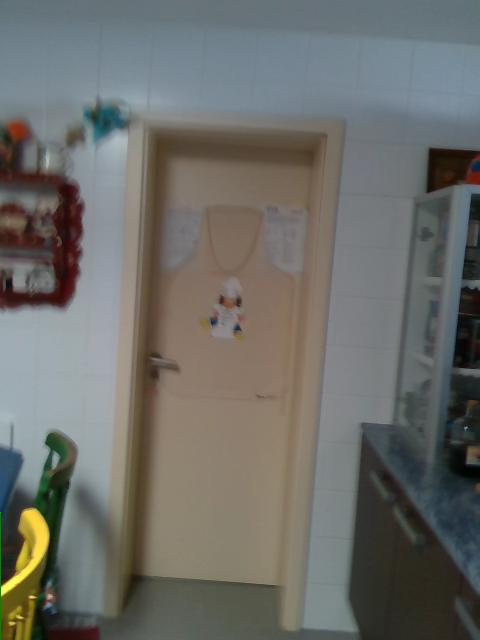door: (135, 147, 312, 589)
